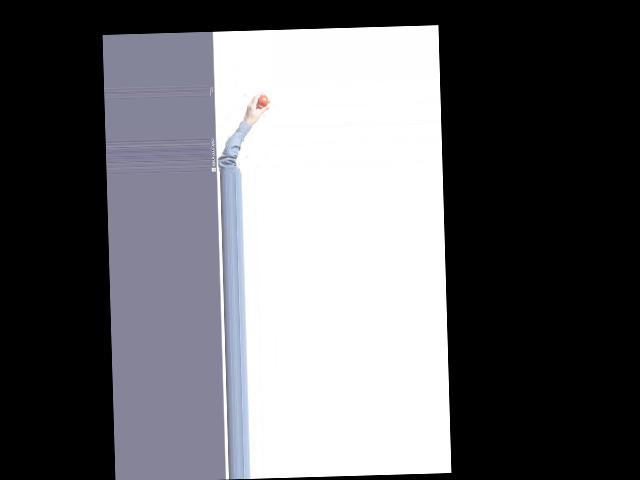tomato: (257, 94, 267, 106)
